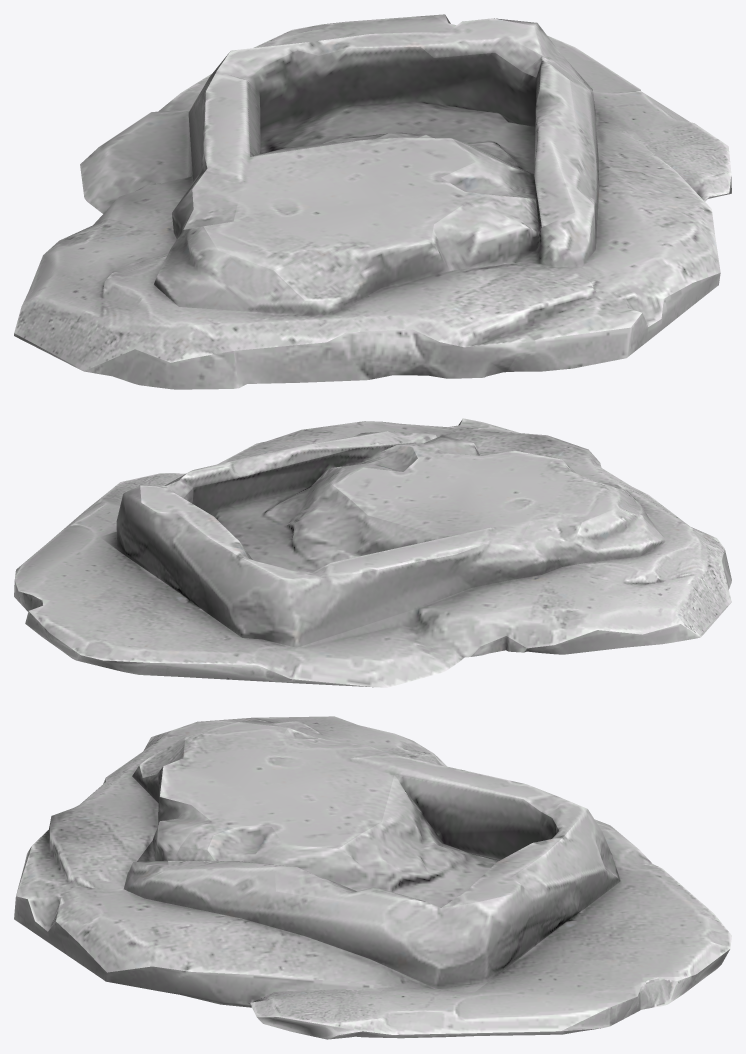
Rendered from rock_ground001.glb.
3 views of the same model, one above another, from view 1: azimuth 30°, elevation 25°; view 2: azimuth 150°, elevation 25°; view 3: azimuth 270°, elevation 25° (orthographic). The views are drawn at different scales.
Parts seen in each view (by area): view 1: models\props_nature\rock_ground001.vmdl_c.rock_ground001; view 2: models\props_nature\rock_ground001.vmdl_c.rock_ground001; view 3: models\props_nature\rock_ground001.vmdl_c.rock_ground001.
Boxes of the visible parts, left/top/right/bottom form: models\props_nature\rock_ground001.vmdl_c.rock_ground001: left=14, top=14, right=731, bottom=389; models\props_nature\rock_ground001.vmdl_c.rock_ground001: left=14, top=418, right=731, bottom=687; models\props_nature\rock_ground001.vmdl_c.rock_ground001: left=14, top=716, right=731, bottom=1039.
Bounding box in the file's own units: 9.25 × 1.23 × 8.99.
1 material, 1 textured.
